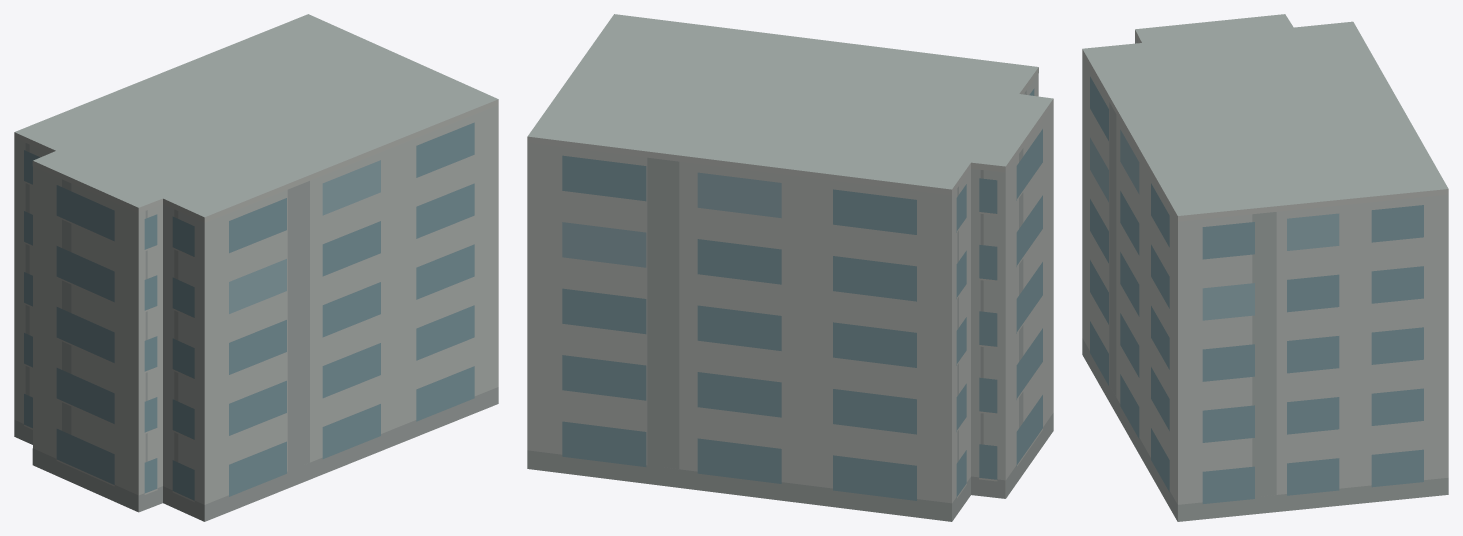
The model's file is survey-upis-32802692.glb.
The picture shows the model from 3 angles, left to right: view 1: azimuth 30°, elevation 25°; view 2: azimuth 150°, elevation 25°; view 3: azimuth 270°, elevation 25°; orthographic projection. The views are drawn at different scales.
Visible parts, largest first — view 1: survey-upis-32802692.tmp; view 2: survey-upis-32802692.tmp; view 3: survey-upis-32802692.tmp.
Boxes of the visible parts, x1,y1,x2,y2 form: survey-upis-32802692.tmp: [14, 14, 498, 521]; survey-upis-32802692.tmp: [527, 14, 1053, 521]; survey-upis-32802692.tmp: [1082, 14, 1448, 521].
Bounding box in the file's own units: 18.64 × 13.15 × 14.29.
